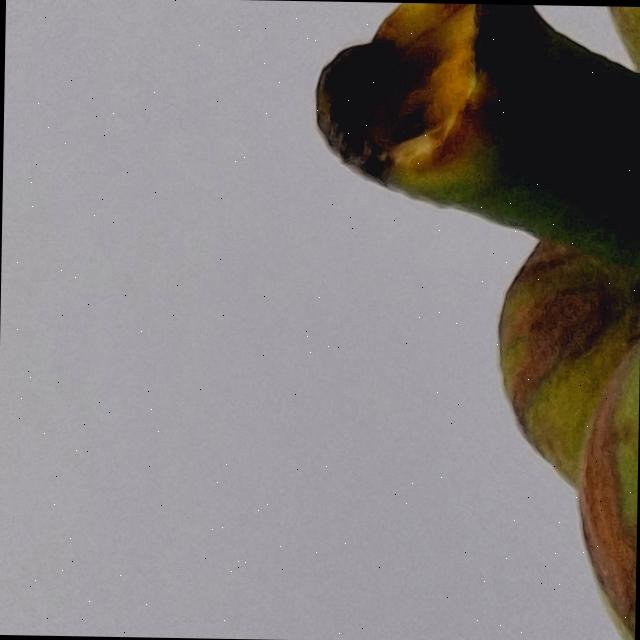mangosteen: (259, 0, 640, 640)
